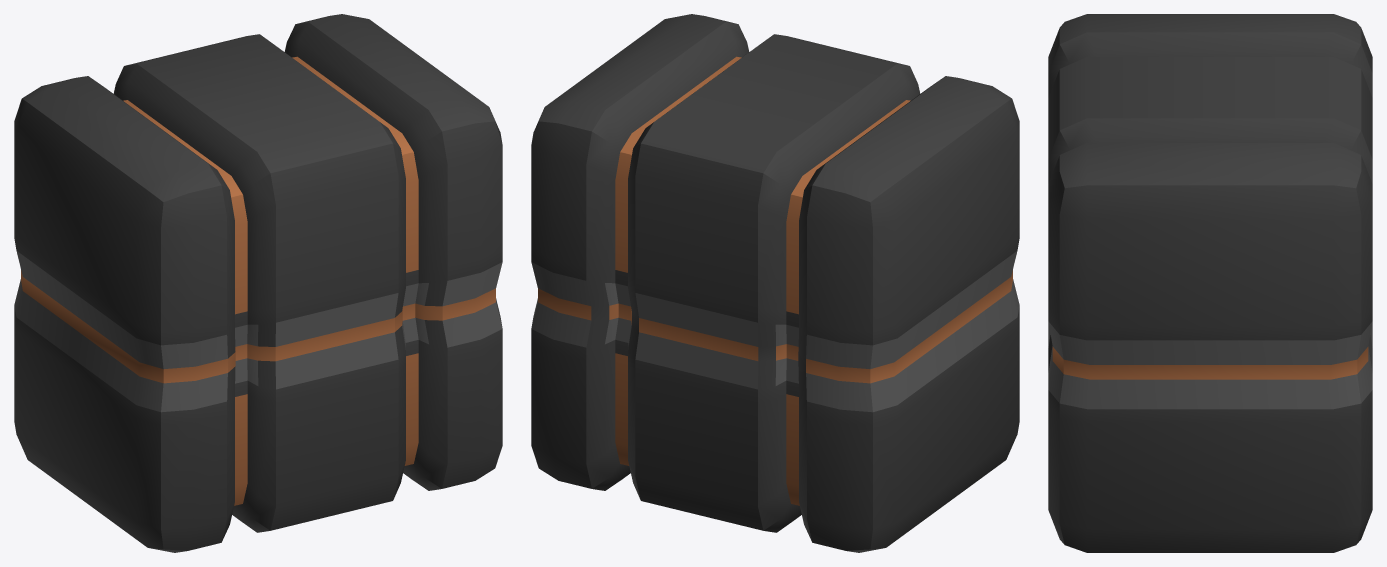
The model's file is MS_Move_Cube.fbx.
3 views of the same model, side by side, from view 1: azimuth 30°, elevation 25°; view 2: azimuth 150°, elevation 25°; view 3: azimuth 270°, elevation 25° (orthographic). The views are drawn at different scales.
Visible parts, largest first — view 1: MS_Move_Cube; view 2: MS_Move_Cube; view 3: MS_Move_Cube.
Part boxes in pixels (bbox=[...]): MS_Move_Cube: bbox=[14, 14, 502, 552]; MS_Move_Cube: bbox=[531, 14, 1019, 552]; MS_Move_Cube: bbox=[1048, 14, 1372, 552].
Size of the model in its own units: 2 by 2 by 1.5.
